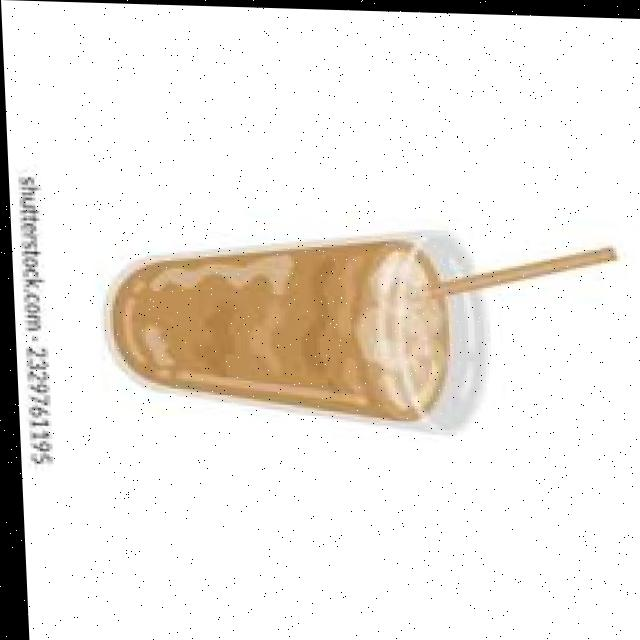cup: (111, 230, 480, 429)
